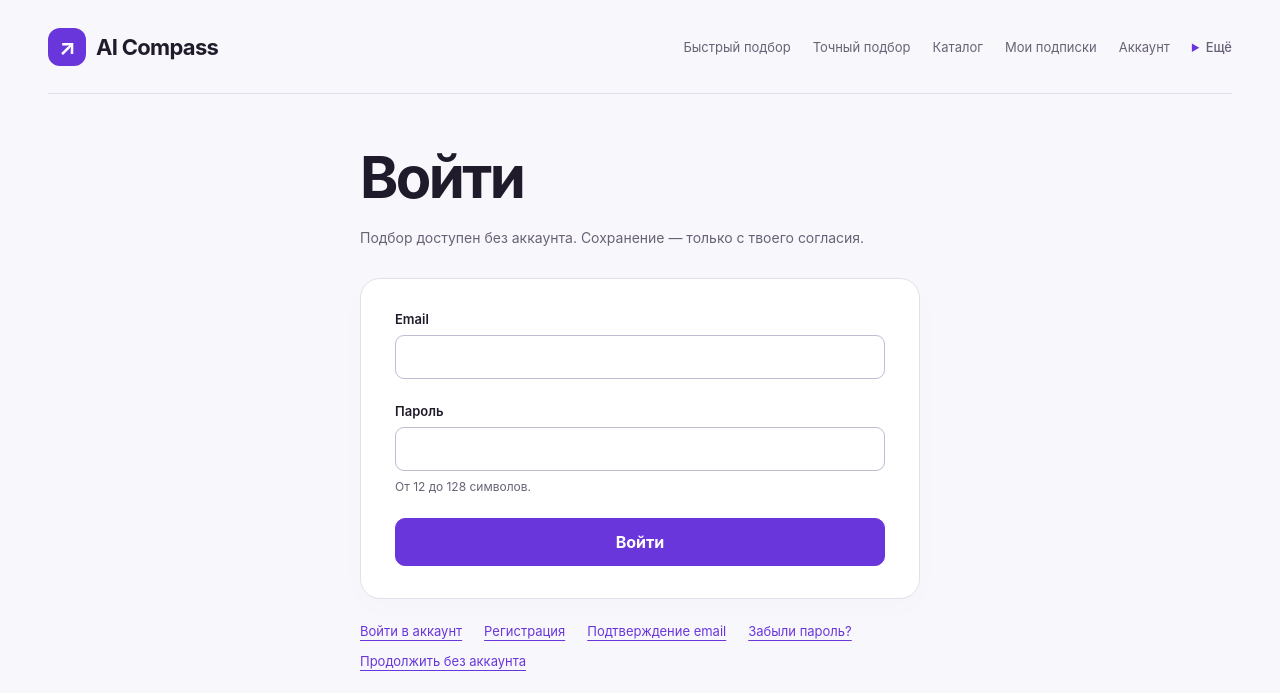
login uses only credentials and opens the empty personal dashboard
Type "synthetic@example.invalid" into the field labelled "Email" at (640,357), box x1=395 y1=335 x2=885 y2=379
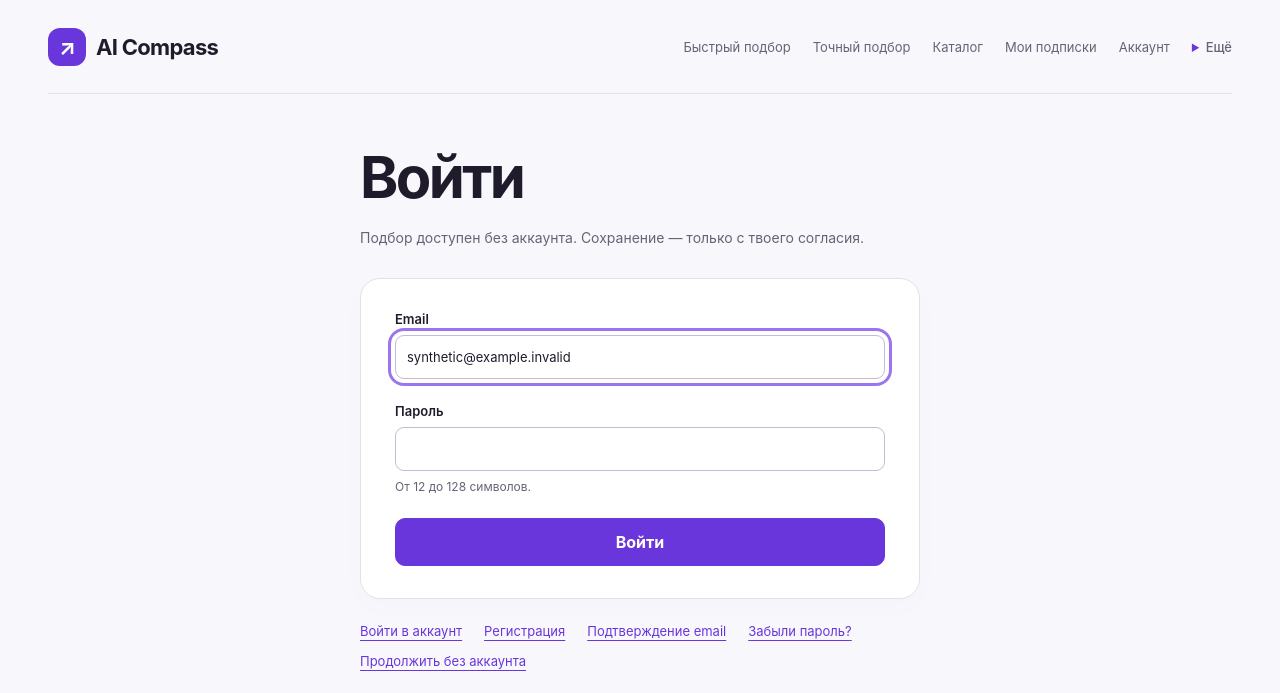
Type "Synthetic-password-only" into the password field labelled "Пароль От 12 до 128 символов." at (640,449), box x1=395 y1=427 x2=885 y2=471
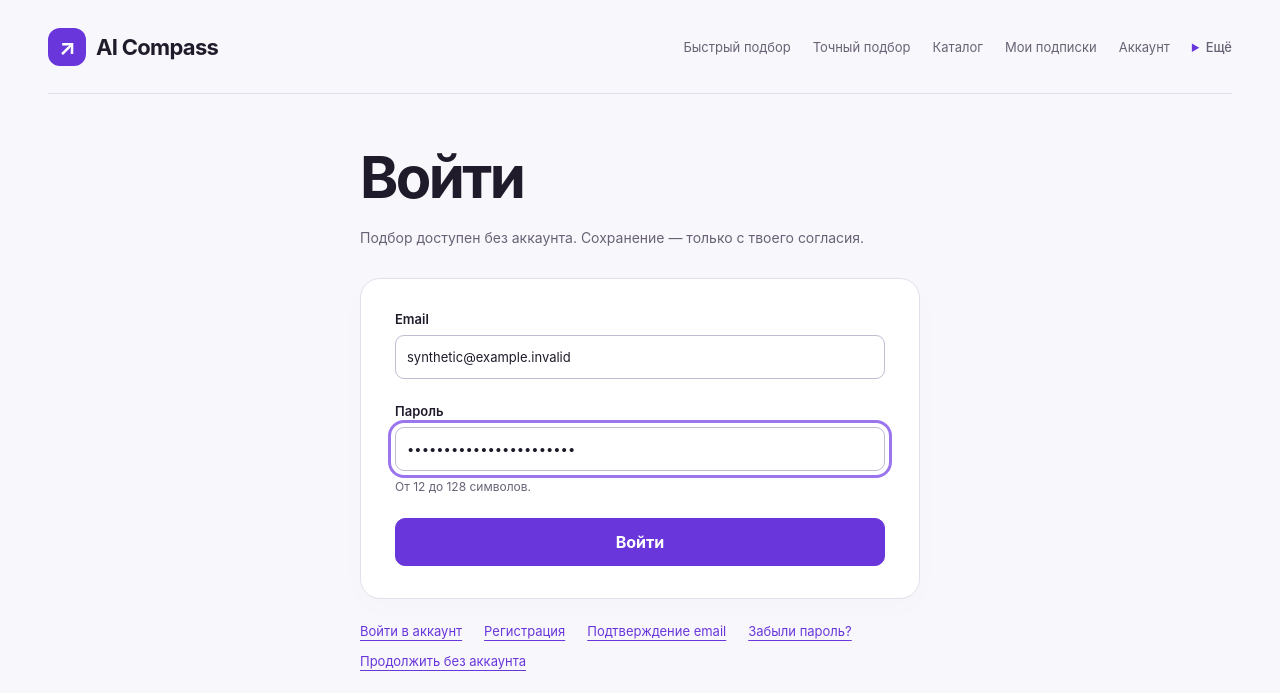
Click the button "Войти" at (640,542), box x1=395 y1=518 x2=885 y2=566
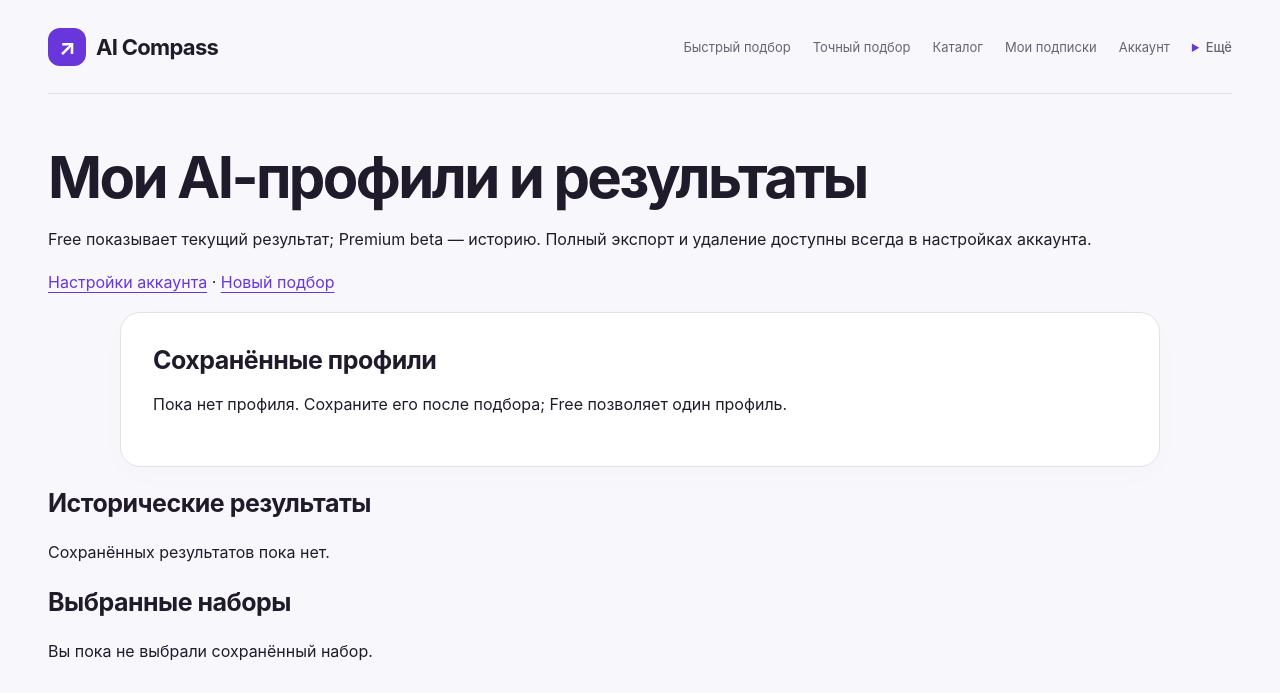
Check: the text "Пока нет профиля" is shown, box x1=153 y1=394 x2=787 y2=414
Check: the text "Сохранённых результатов пока нет." is shown, box x1=48 y1=542 x2=330 y2=562
